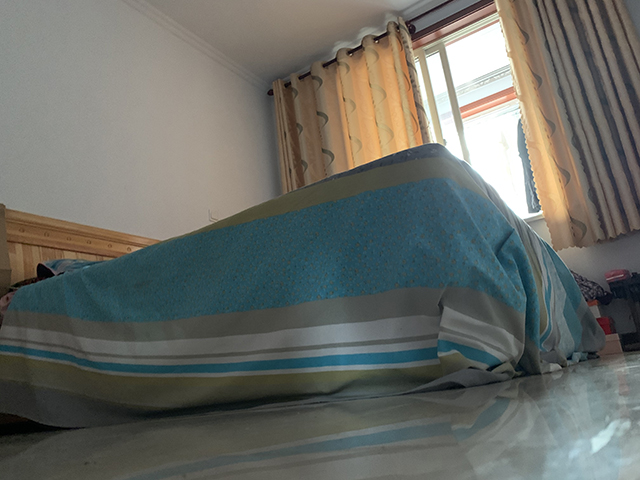bed: (1, 140, 608, 438)
curtain: (492, 1, 640, 251)
